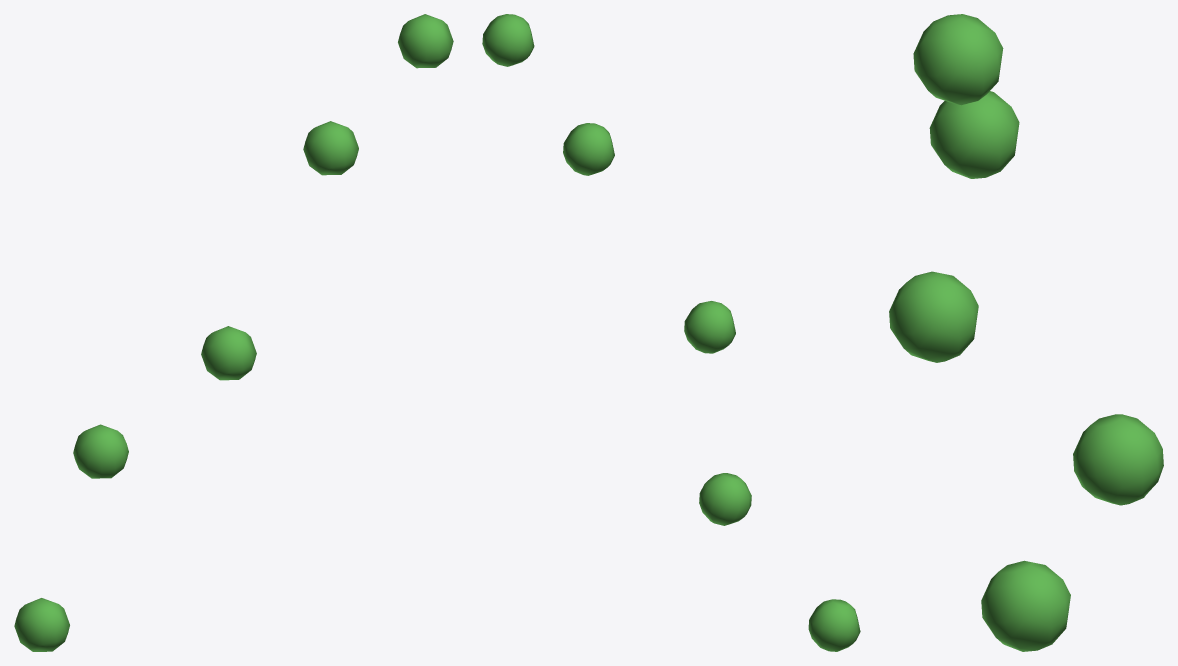
The model's file is linfatico-brachial-nodes-r.glb.
3 views of the same model, side by side, from view 1: azimuth 30°, elevation 25°; view 2: azimuth 150°, elevation 25°; view 3: azimuth 270°, elevation 25° (orthographic). The views are drawn at different scales.
Visible parts, largest first — view 1: Brachial nodes.r; view 2: Brachial nodes.r; view 3: Brachial nodes.r.
Part boxes in pixels (x1,y1,x2,y2): Brachial nodes.r: (14, 14, 453, 651); Brachial nodes.r: (482, 14, 860, 651); Brachial nodes.r: (889, 14, 1163, 651).
Bounding box in the file's own units: 0.0221 × 0.0288 × 0.00779.
